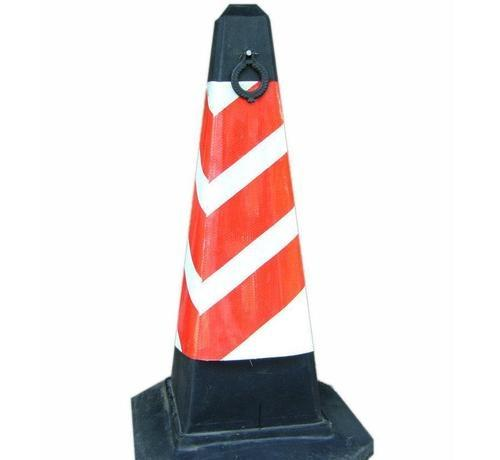cone_barrel: (132, 15, 340, 435)
